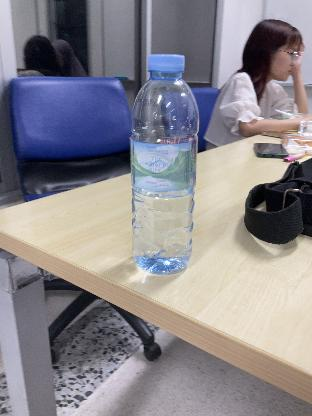Plastic Bottle: (120, 45, 214, 289)
